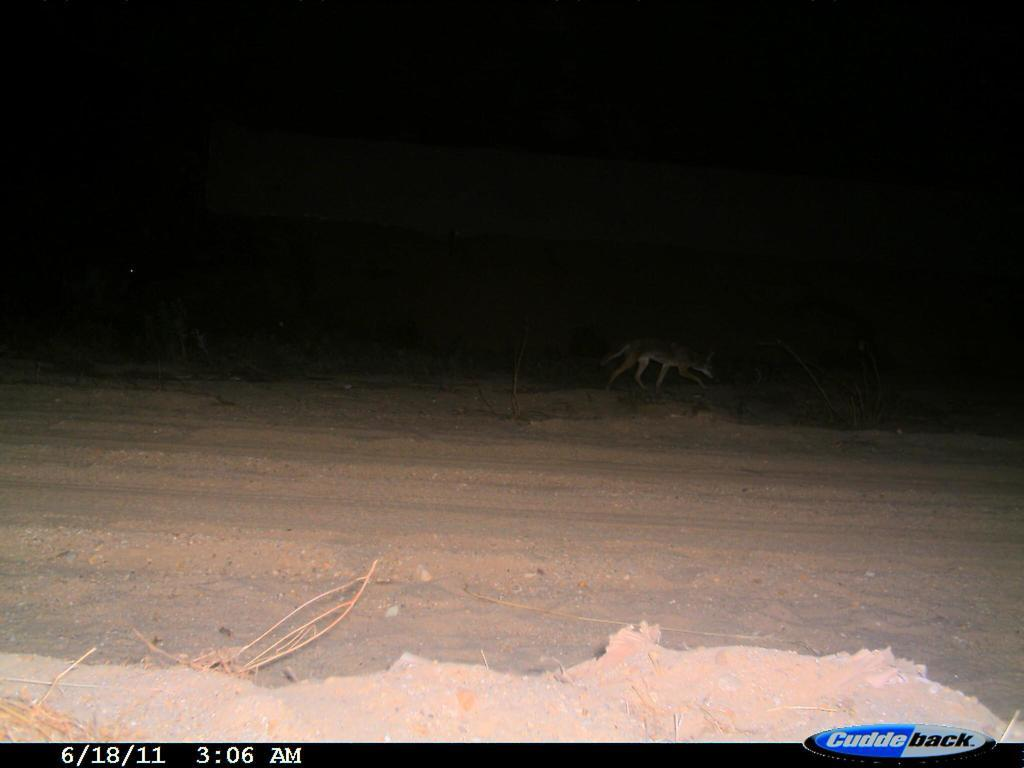coyote: (583, 322, 734, 405)
